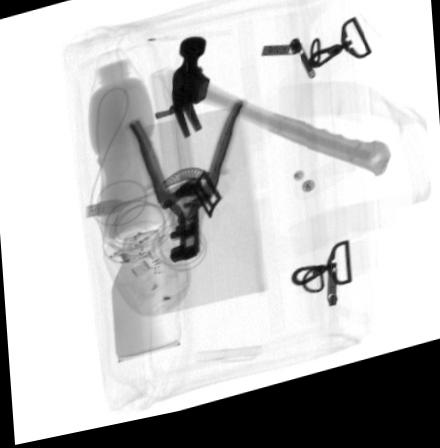Hammer: (171, 43, 390, 192)
Pliers: (125, 109, 247, 270)
